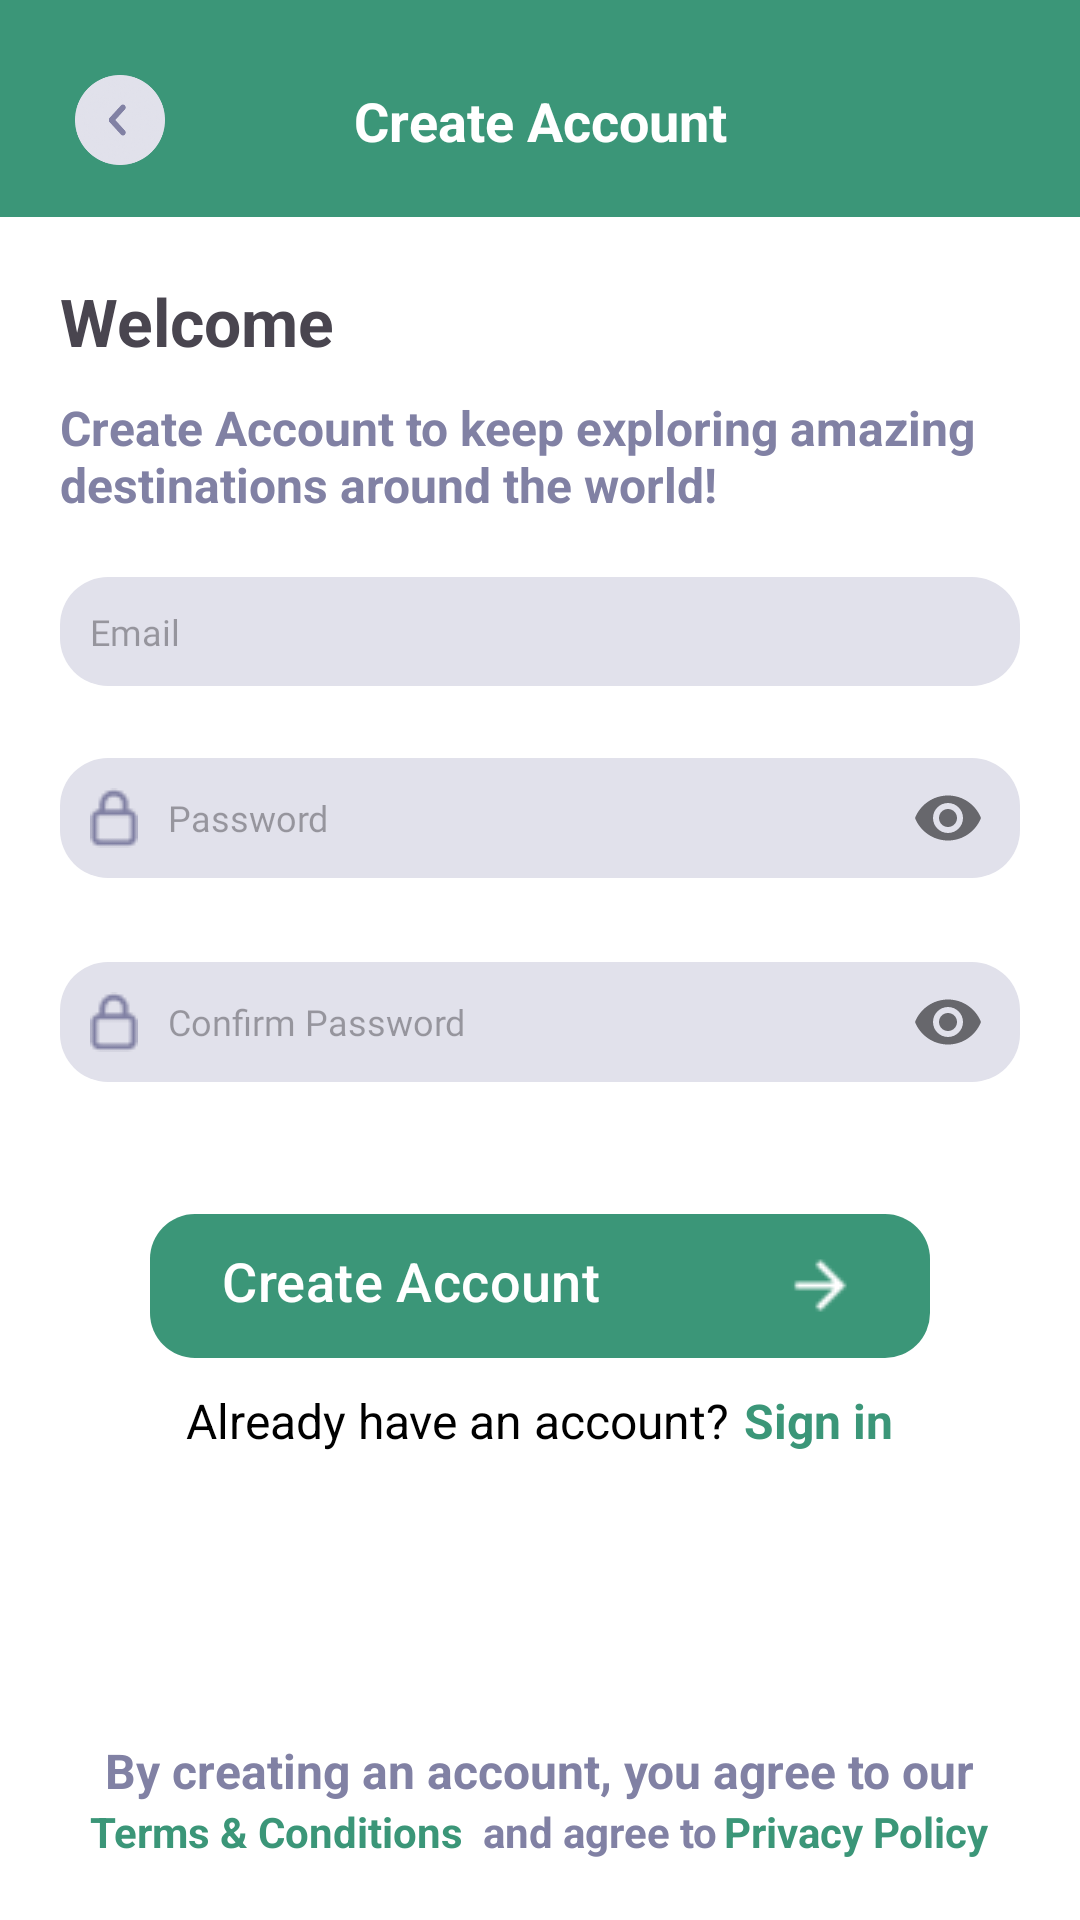

Point at icon controls on the screen. Image size 1080px×1920px, points as point (x, y).
back: point (120, 120)
